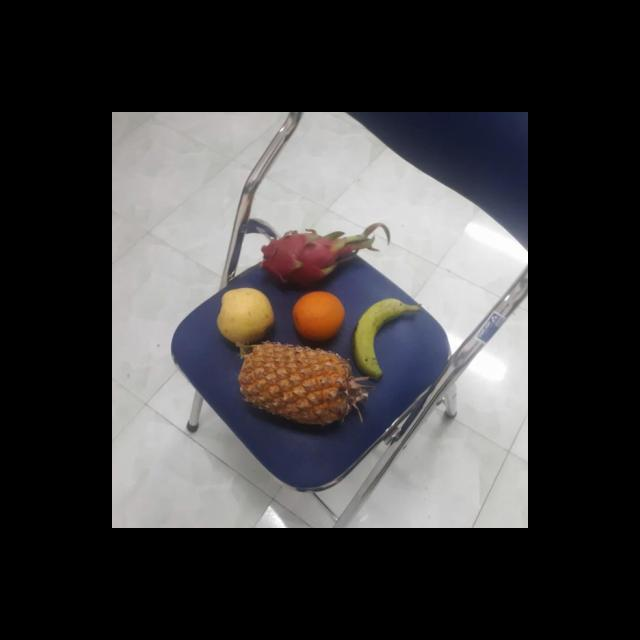banana: (353, 294, 404, 379)
orange: (290, 290, 348, 344)
pear: (217, 286, 274, 348)
pineapple: (237, 342, 354, 424)
pitaya: (261, 230, 354, 289)
